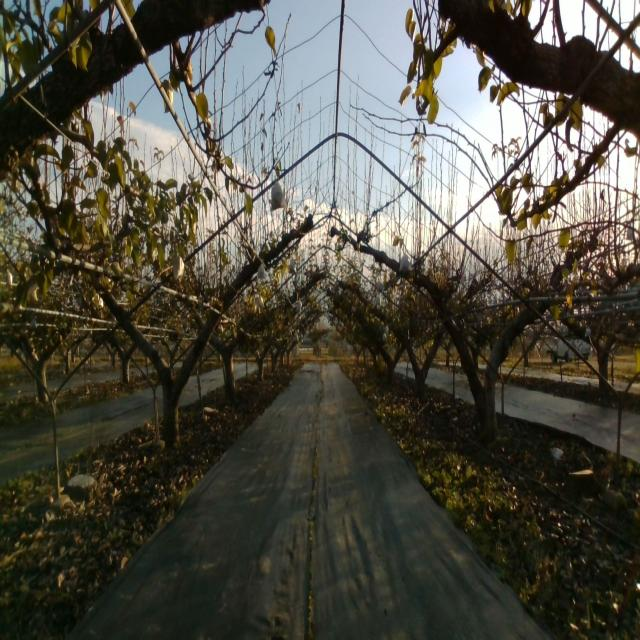pearbags: (270, 180, 288, 212), (172, 255, 185, 282), (399, 252, 413, 274)
